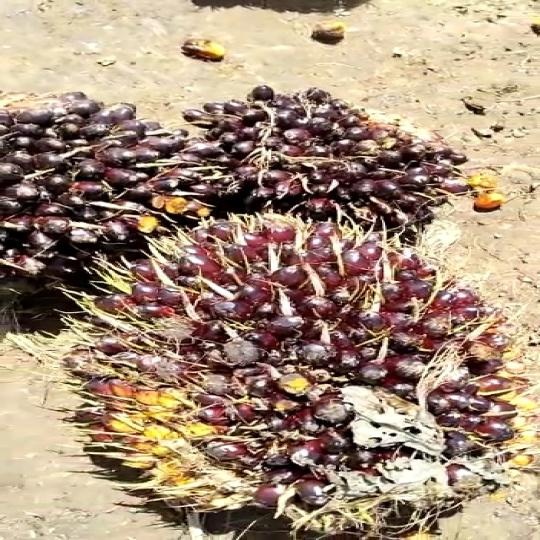mentah: (72, 200, 522, 540), (182, 80, 485, 240), (0, 83, 211, 300)
